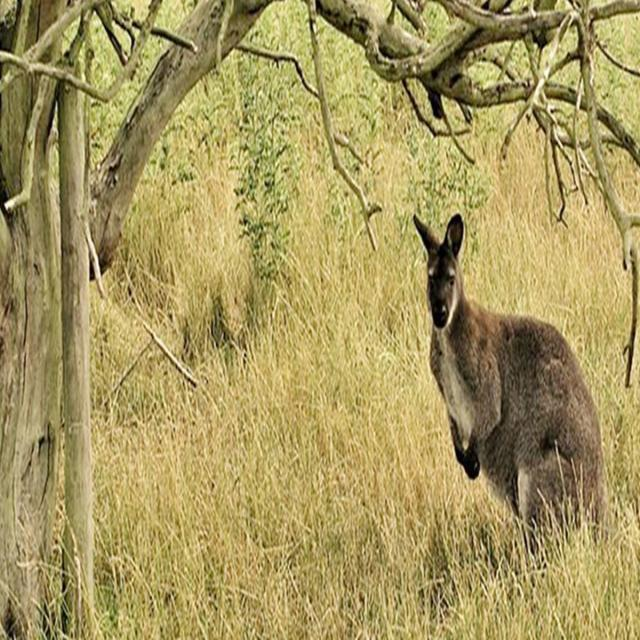Kangaroo: (405, 191, 610, 541)
